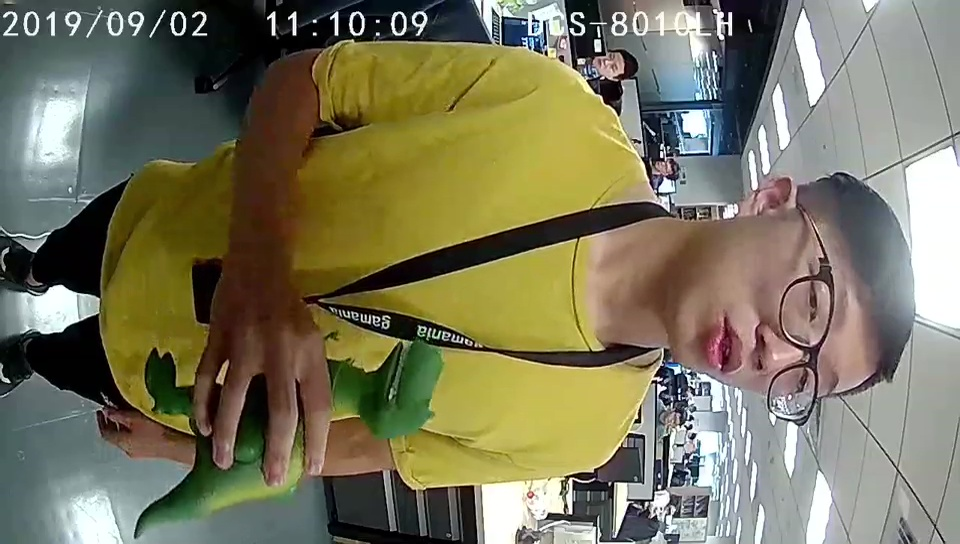rex: (176, 339, 444, 510)
